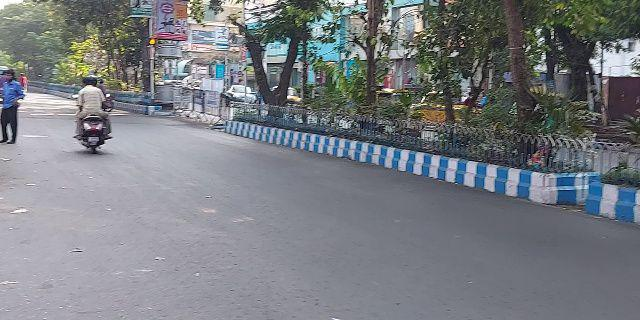Motorbike: (71, 73, 114, 157)
